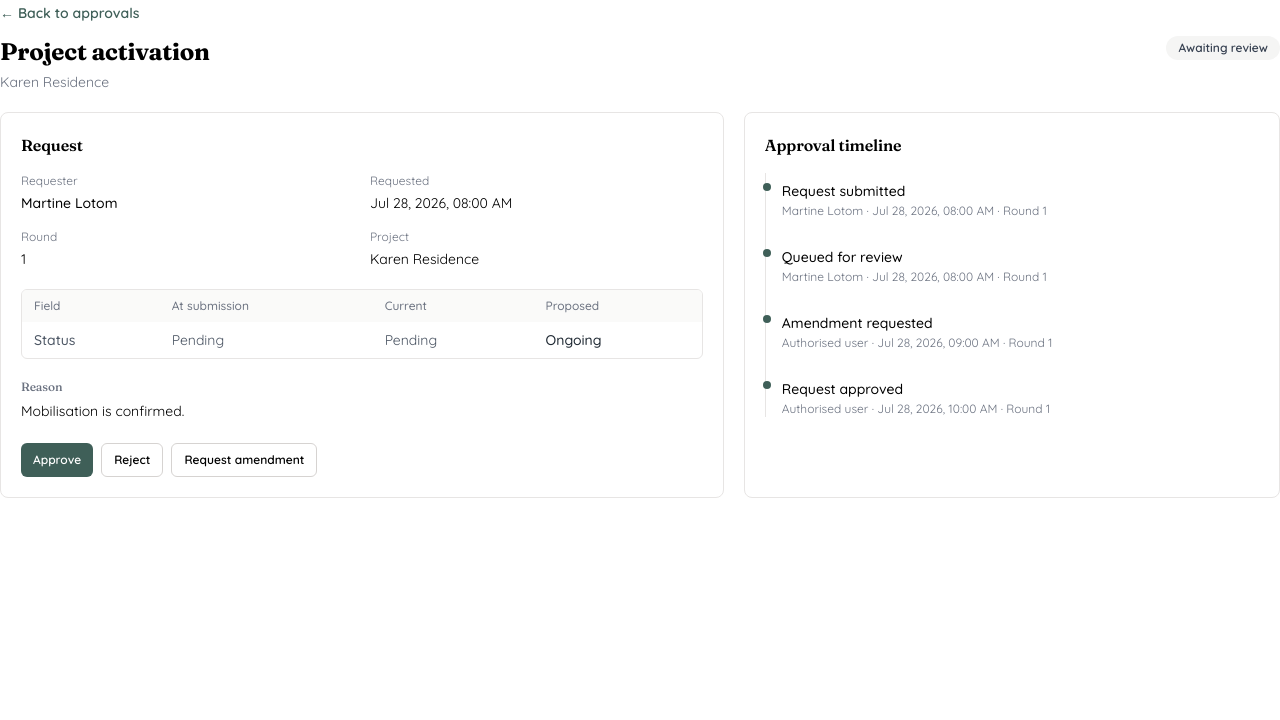
Test: Admin approval detail › surfaces a clear stale error and always restores usable controls
What coordinates should you click on to do the following:
click the button "Approve"
I would click on:
 (57, 460)
Its box is 21,443 -> 93,477.
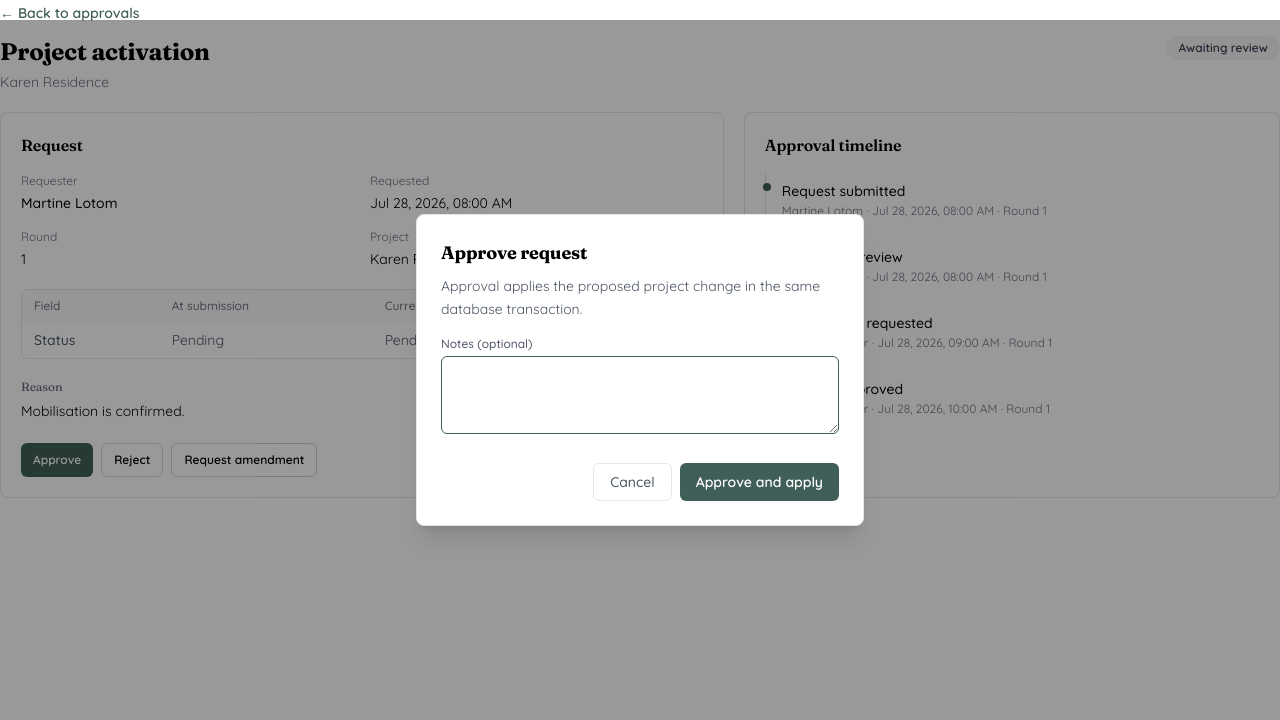
What coordinates should you click on to do the following:
click the button "Approve and apply"
I would click on:
 (759, 482)
Its box is 680,463 -> 839,501.
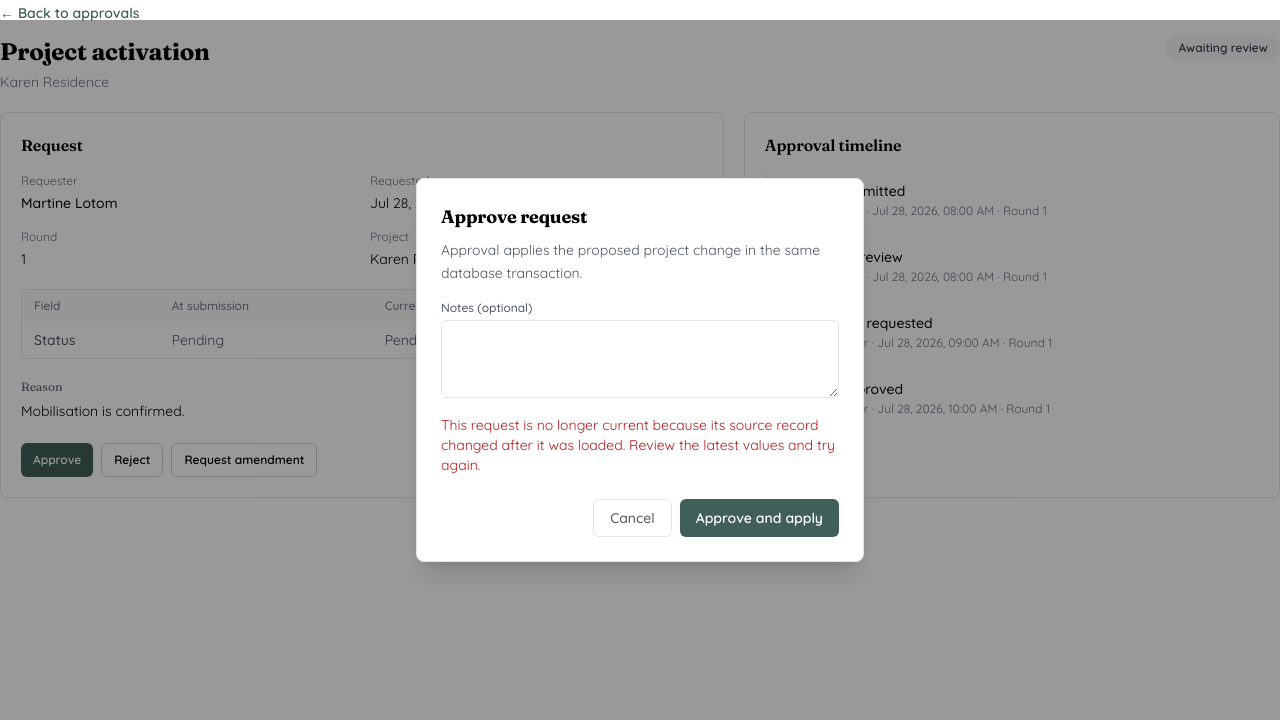
Expected: the button "Approve and apply" is enabled, 680,499 -> 839,537
Expected: the message shows "This request is no longer current because its source record changed after it was loaded. Review the latest values and try again.", 441,416 -> 835,474
